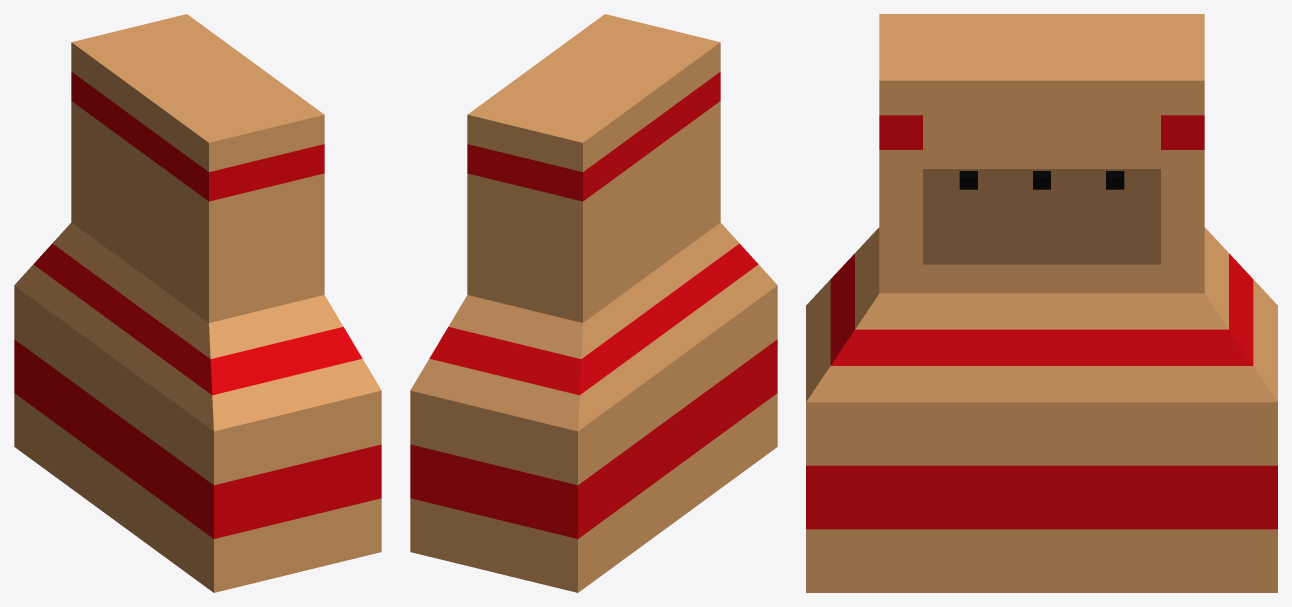
The model's file is Numberguessing.fbx.
3 views of the same model, side by side, from view 1: azimuth 30°, elevation 25°; view 2: azimuth 150°, elevation 25°; view 3: azimuth 270°, elevation 25° (orthographic). The views are drawn at different scales.
Visible parts, largest first — view 1: Cube; view 2: Cube; view 3: Cube.
Part boxes in pixels (bbox=[...]): Cube: bbox=[14, 14, 381, 592]; Cube: bbox=[410, 14, 777, 592]; Cube: bbox=[806, 14, 1277, 592].
Bounding box in the file's own units: 290 × 598 × 696.
